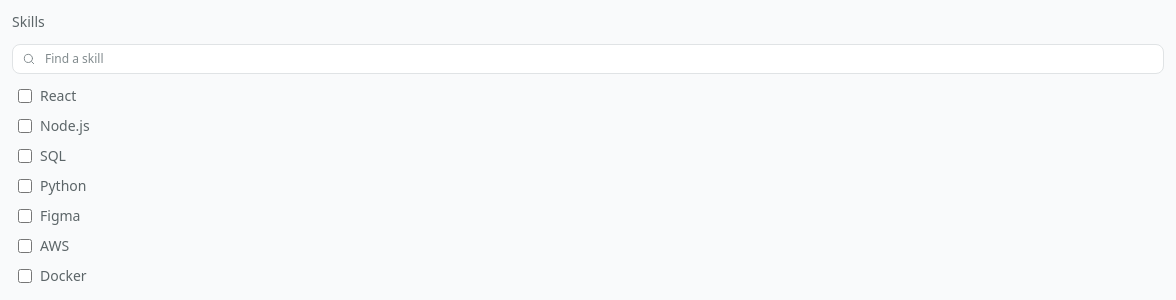
Test: SkillFilter › narrows the list as the search box is typed into
Type "ku" into the search field named "Filter the skill list" at (588, 59), box [12,44,1164,74]
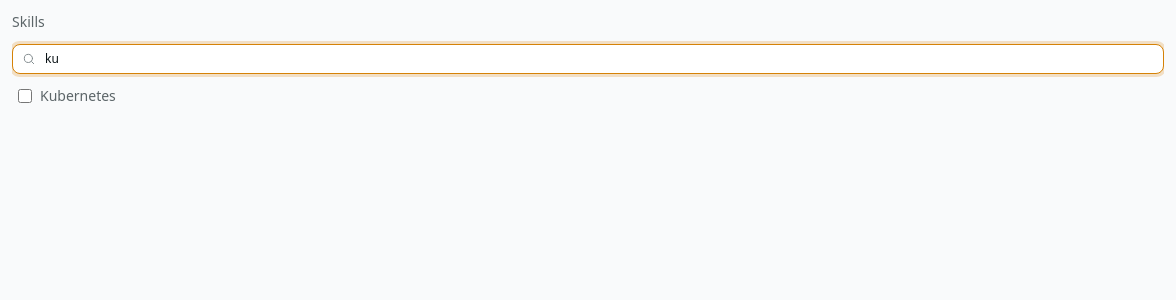
Check: the number of checkboxes is 1, box [18,89,32,103]
